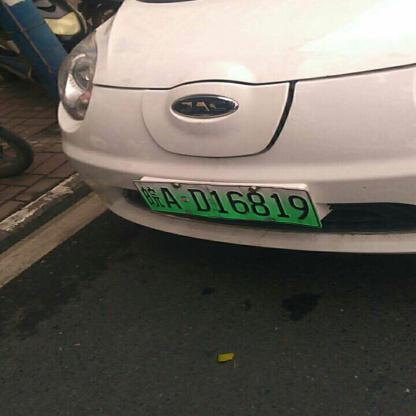lp: (133, 181, 322, 227)
